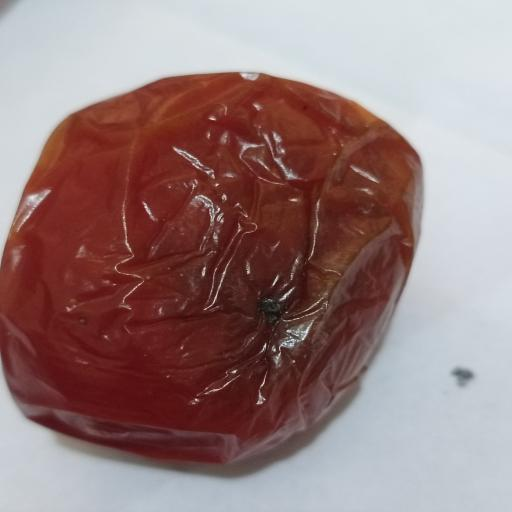spoiled: (0, 73, 422, 462)
